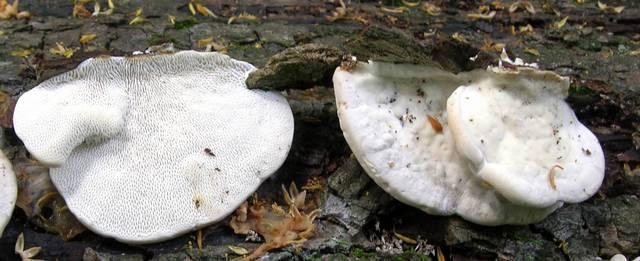poisonous_mushroom: (11, 48, 295, 245), (331, 56, 606, 227)
